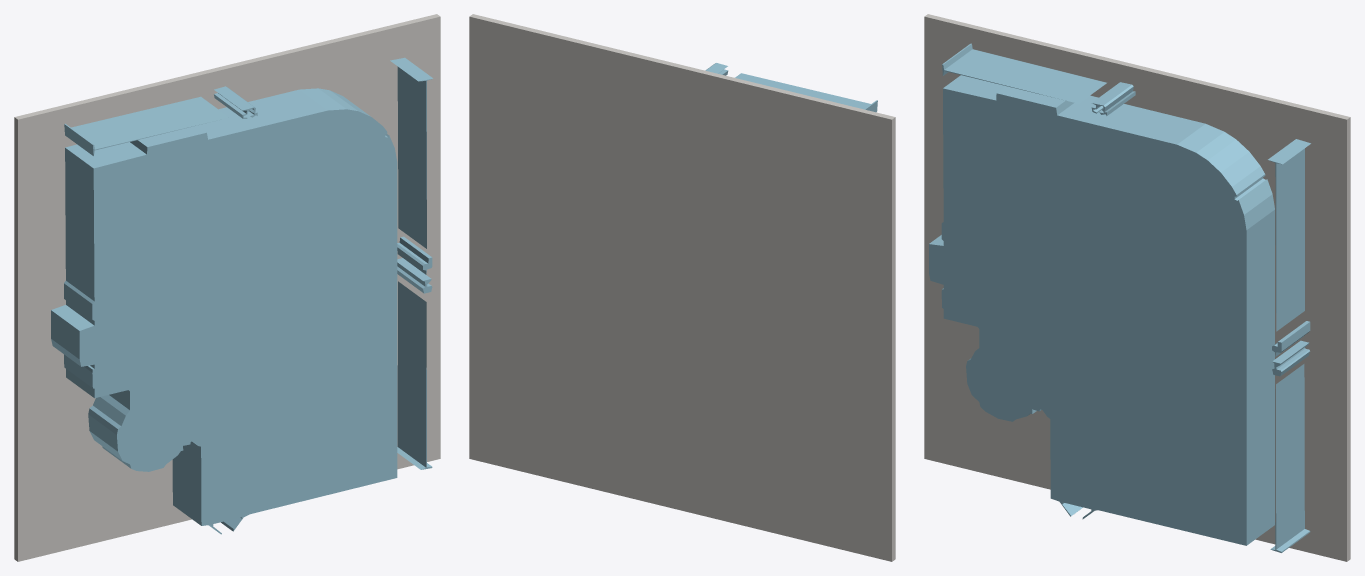
3 views of the same model, side by side, from view 1: azimuth 30°, elevation 25°; view 2: azimuth 150°, elevation 25°; view 3: azimuth 330°, elevation 25° (orthographic).
Parts seen in each view (by area): view 1: world; view 2: world; view 3: world.
Part boxes in pixels (left/top/right/bottom): world: left=14, top=14, right=440, bottom=561; world: left=469, top=14, right=895, bottom=561; world: left=924, top=14, right=1350, bottom=561.
Bounding box in the file's own units: 10.23 × 10.23 × 1.35.
